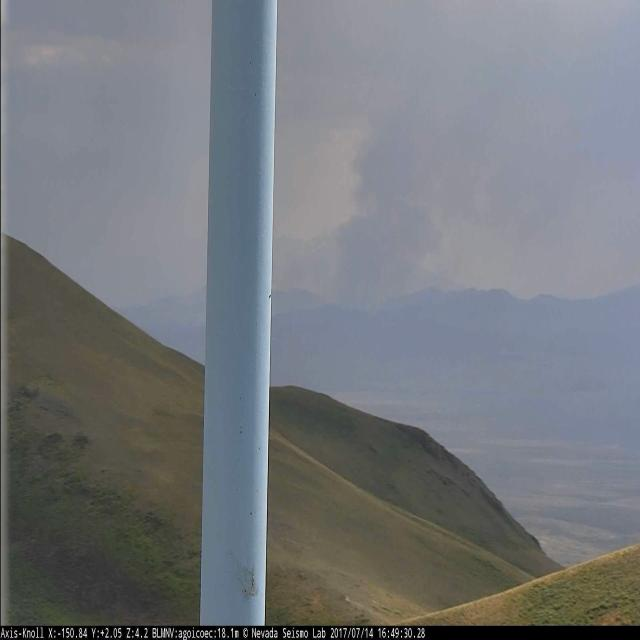smoke: (297, 116, 440, 306)
